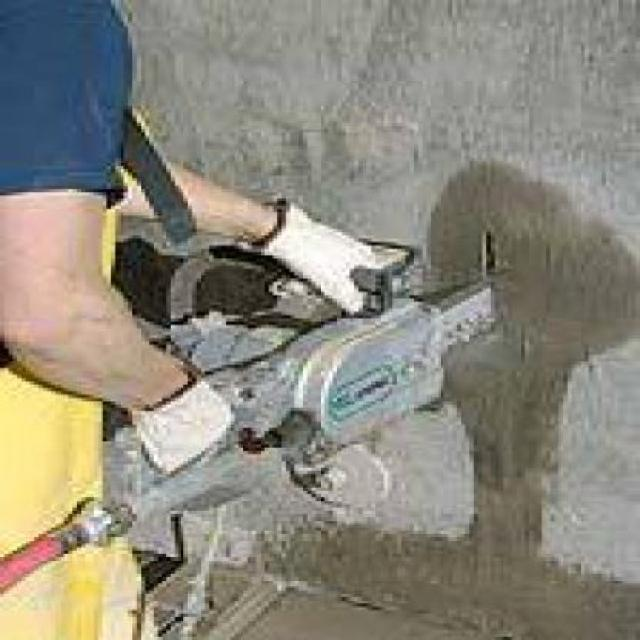Chainsaw: (0, 240, 497, 594)
